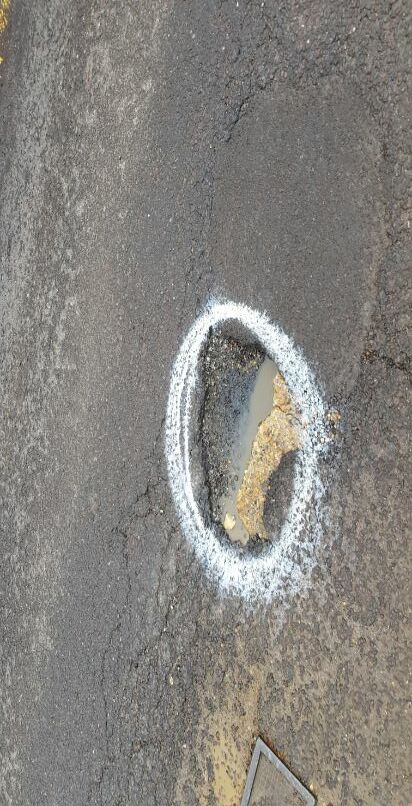pothole: (187, 318, 317, 568)
